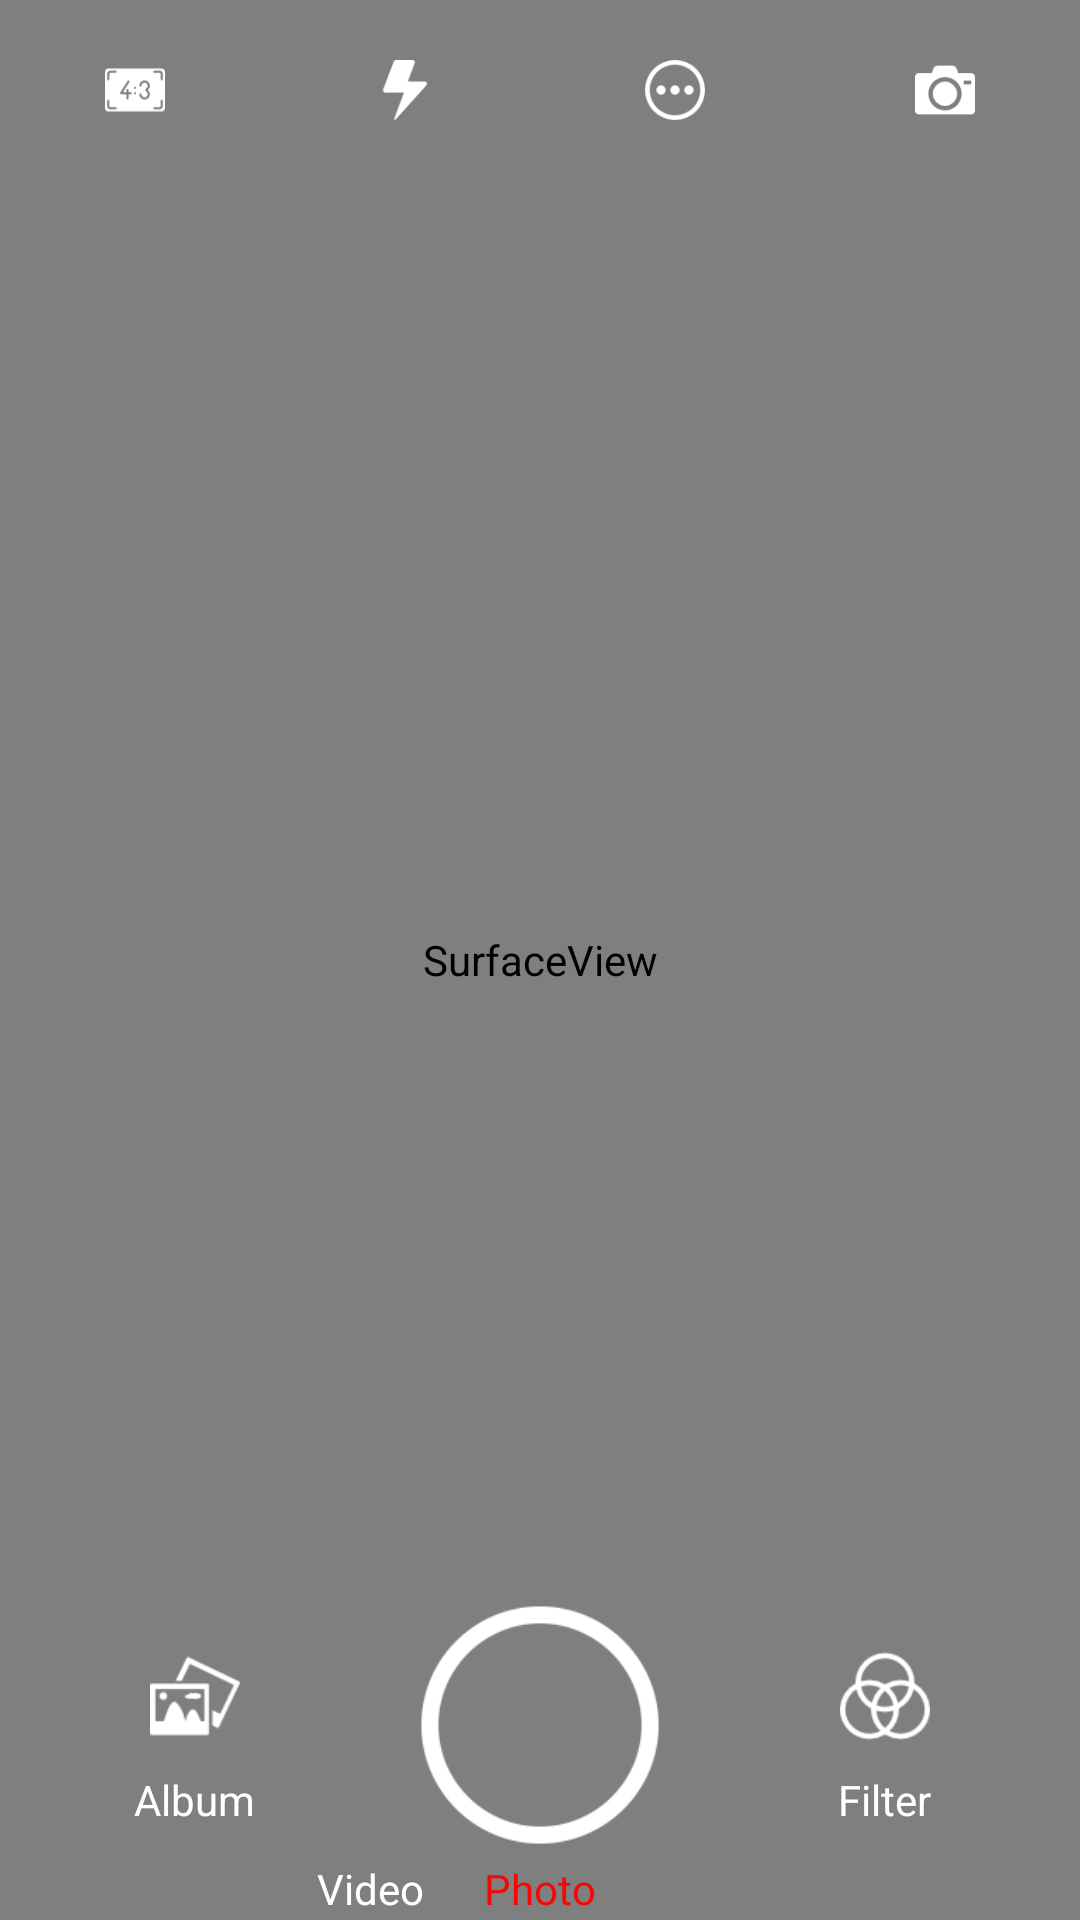

Icon bounding boxes for this 1080×1920 phone screenshot, format [x1, y1, x2, y2]:
camera: [915, 65, 975, 115]
flash: [382, 60, 427, 120]
more: [645, 60, 705, 120]
ratio: [105, 68, 165, 112]
